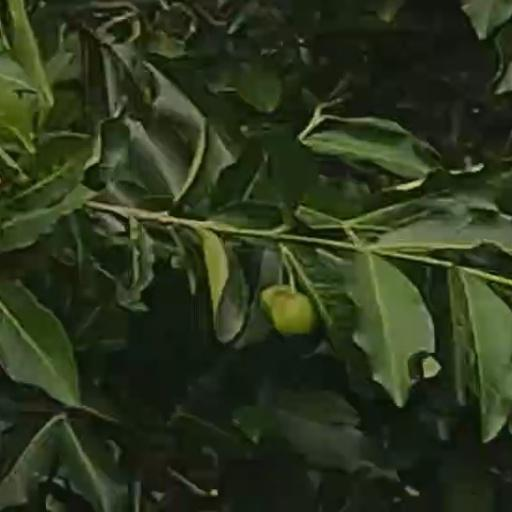acerola_verde: (273, 293, 311, 331)
